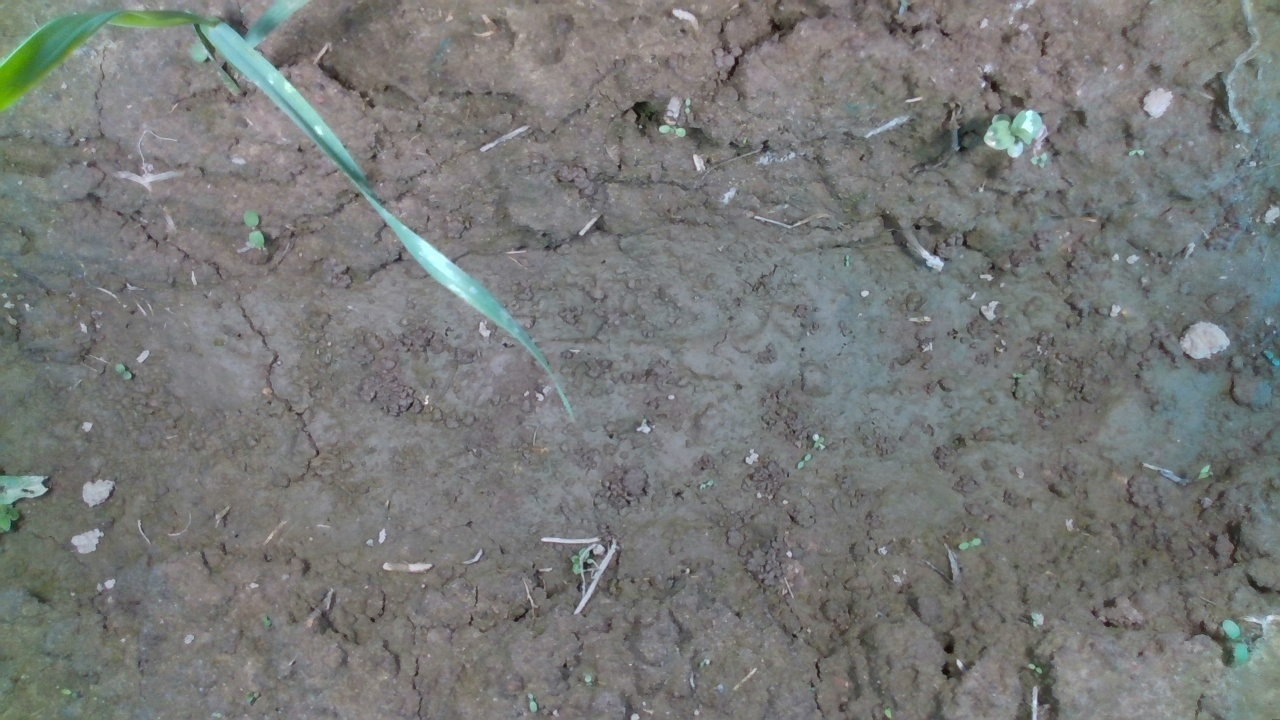weed: (810, 429, 855, 452), (110, 361, 148, 383), (648, 119, 689, 138), (1126, 143, 1146, 158)
